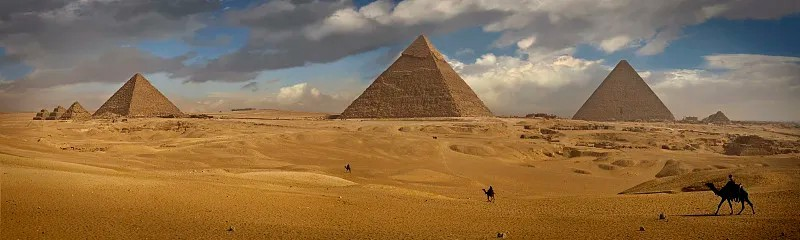Pyramid: (338, 33, 496, 118), (570, 61, 677, 123), (90, 75, 187, 118), (61, 102, 92, 119)
